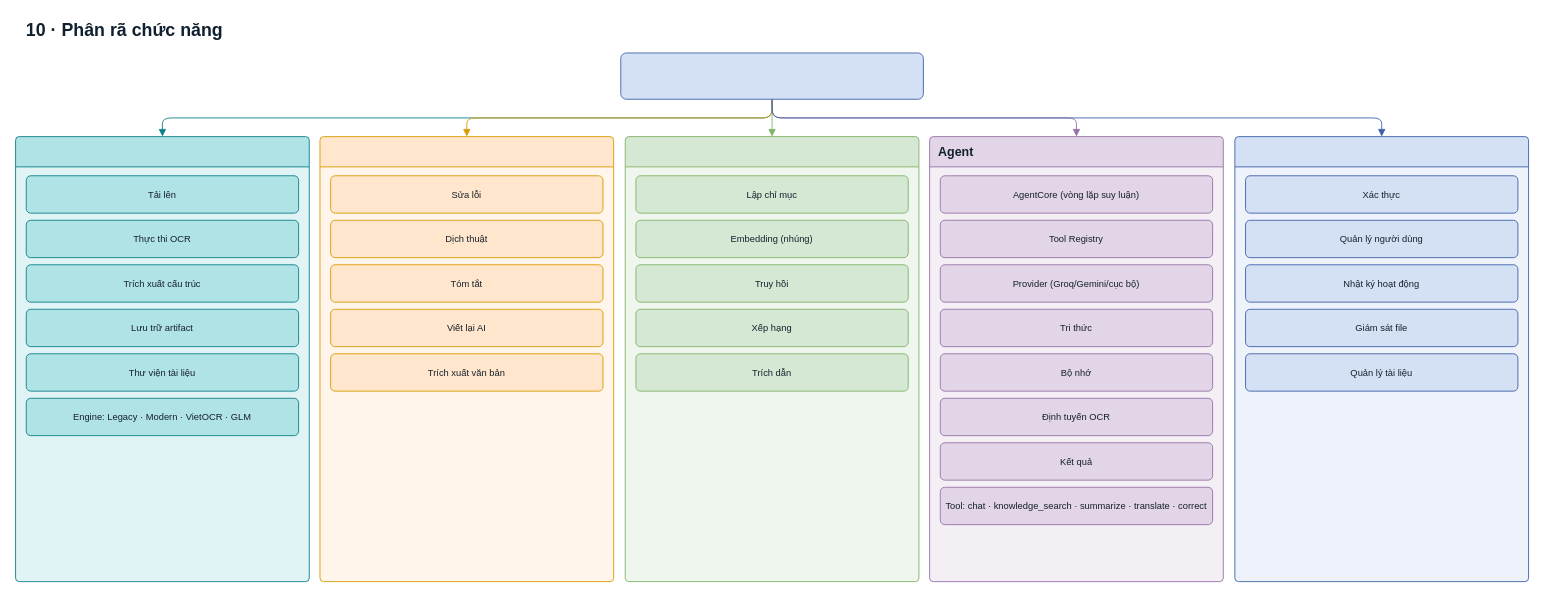
This 1544x597 diagram has some shape labels left out. The shapes that lost their labels are listed below. From the top down, each one's box as (x1, y1, x2, y2) in pixels, then its label:
(620, 52, 923, 99): SmartDocs-Agent Phân rã chức năng
(15, 136, 309, 582): Xử lý tài liệu
(319, 136, 614, 582): Dịch vụ AI
(624, 136, 919, 582): Tri thức / RAG
(1234, 136, 1529, 582): Nền tảng / Quản trị
